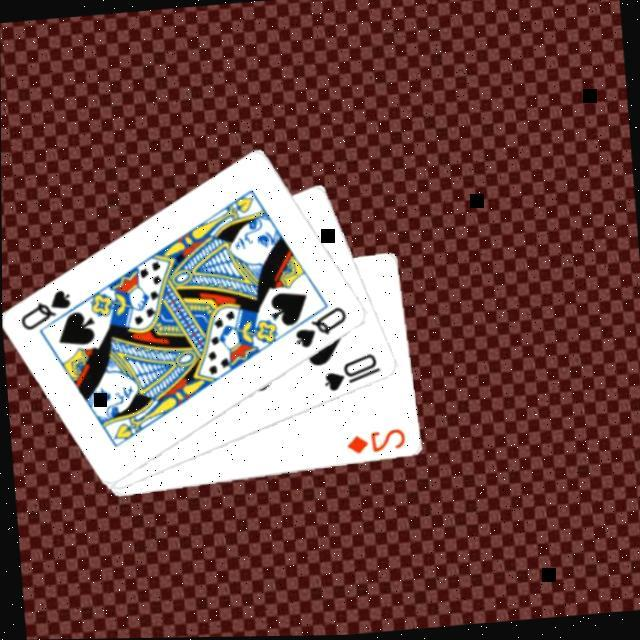10S: (317, 349, 384, 394)
2D: (342, 424, 408, 456)
QS: (288, 302, 350, 351), (14, 284, 74, 332)
